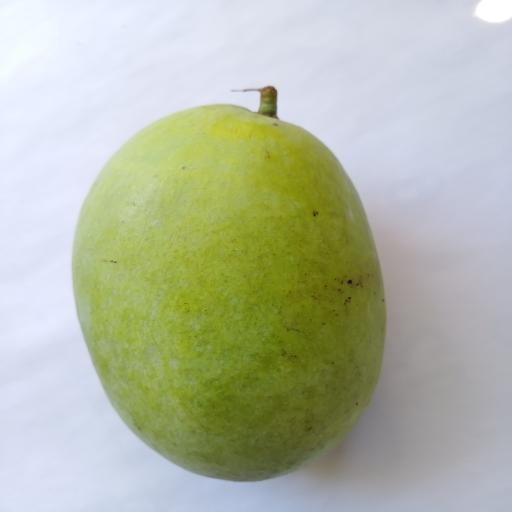mango-unripe: (61, 60, 396, 494)
